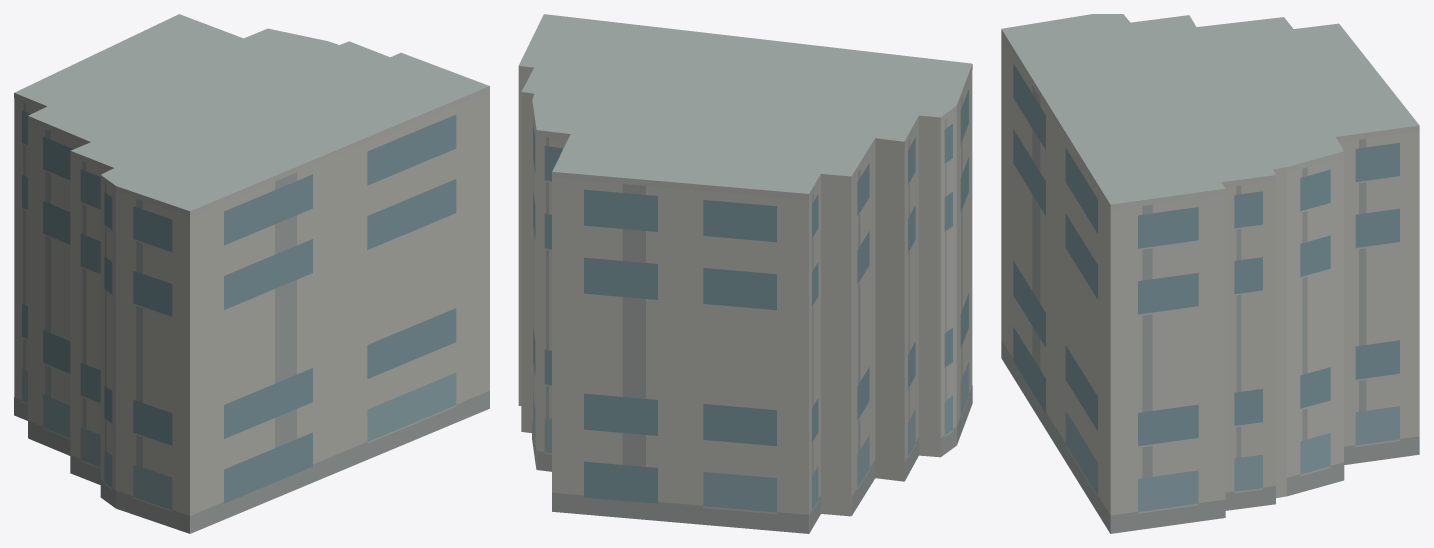
The model's file is survey-upis-32960097.glb.
The picture shows the model from 3 angles, left to right: view 1: azimuth 30°, elevation 25°; view 2: azimuth 150°, elevation 25°; view 3: azimuth 270°, elevation 25°; orthographic projection. The views are drawn at different scales.
Parts seen in each view (by area): view 1: survey-upis-32960097.tmp; view 2: survey-upis-32960097.tmp; view 3: survey-upis-32960097.tmp.
Boxes of the visible parts, <box> form: survey-upis-32960097.tmp: <box>14,14,489,533</box>; survey-upis-32960097.tmp: <box>518,14,972,533</box>; survey-upis-32960097.tmp: <box>1001,14,1419,533</box>.
Size of the model in its own units: 17.16 by 13.8 by 15.9.
